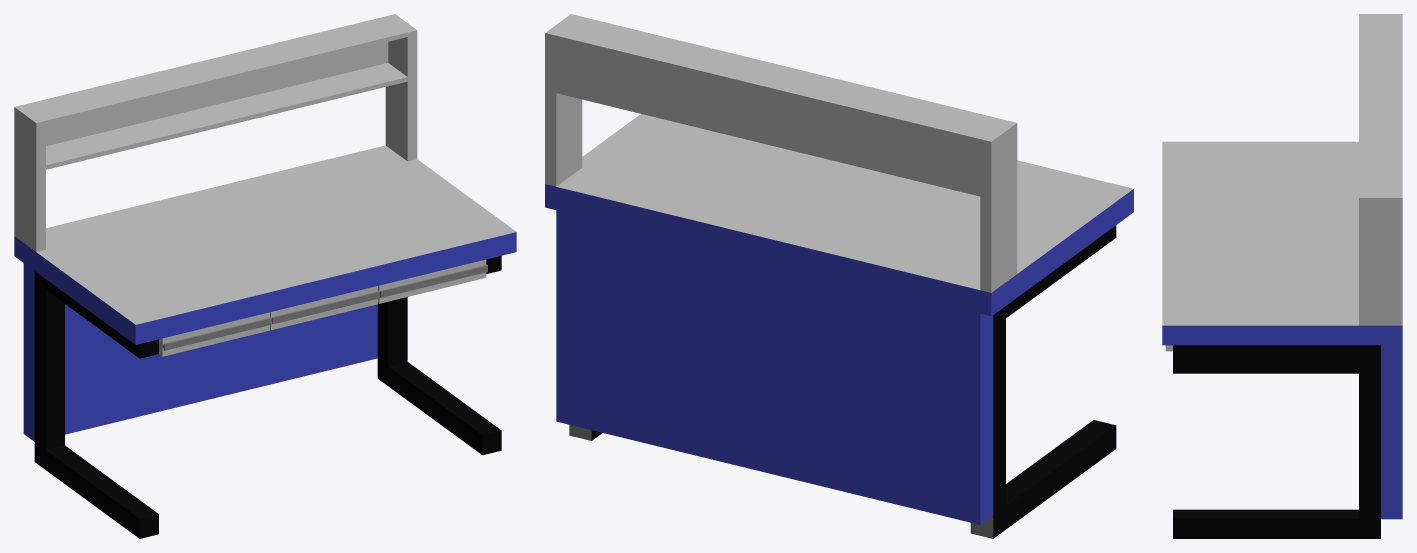
Rendered from 研究デスク.fbx.
3 views of the same model, side by side, from view 1: azimuth 30°, elevation 25°; view 2: azimuth 150°, elevation 25°; view 3: azimuth 270°, elevation 25° (orthographic). The views are drawn at different scales.
Parts seen in each view (by area): view 1: 立方体_棚付き.001; view 2: 立方体_棚付き.001; view 3: 立方体_棚付き.001.
Part boxes in pixels (<box>): 立方体_棚付き.001: <box>14,14,516,538</box>; 立方体_棚付き.001: <box>545,14,1133,538</box>; 立方体_棚付き.001: <box>1162,14,1402,538</box>.
Bounding box in the file's own units: 161 × 88.73 × 141.
